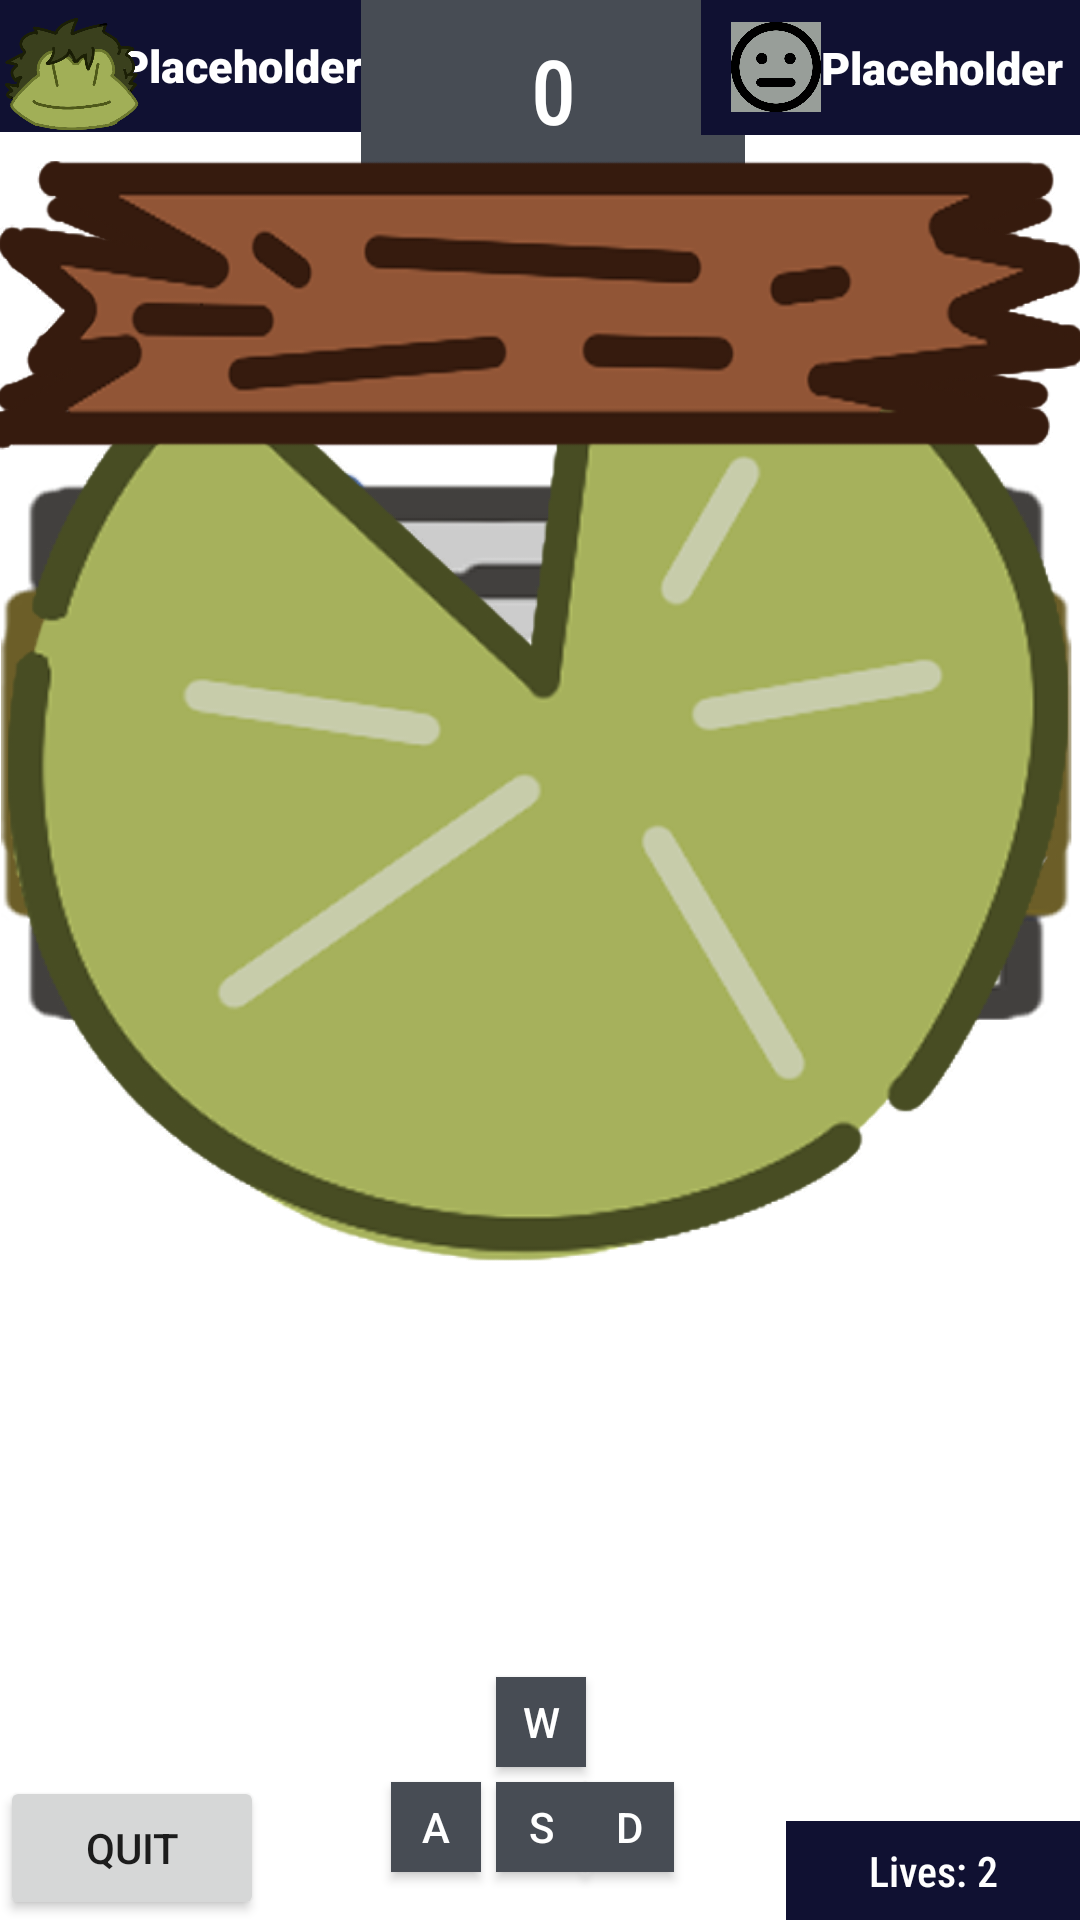

Icons on this 1080w x 1920h Android screen, each with its box as (x1, y1, x2, y2):
medium: (731, 22, 821, 112)
